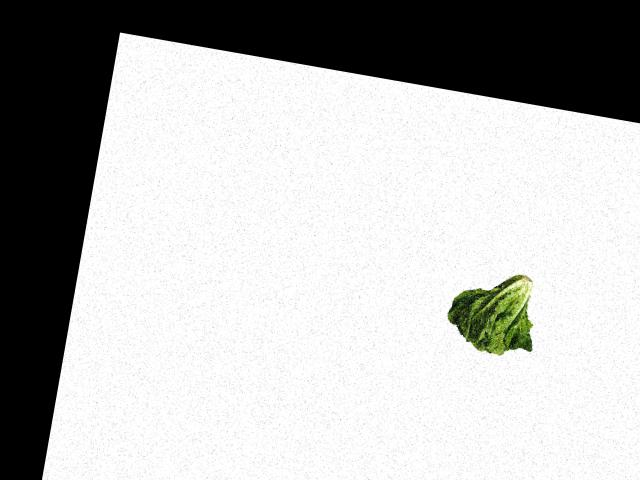lettuce: (440, 258, 547, 364)
